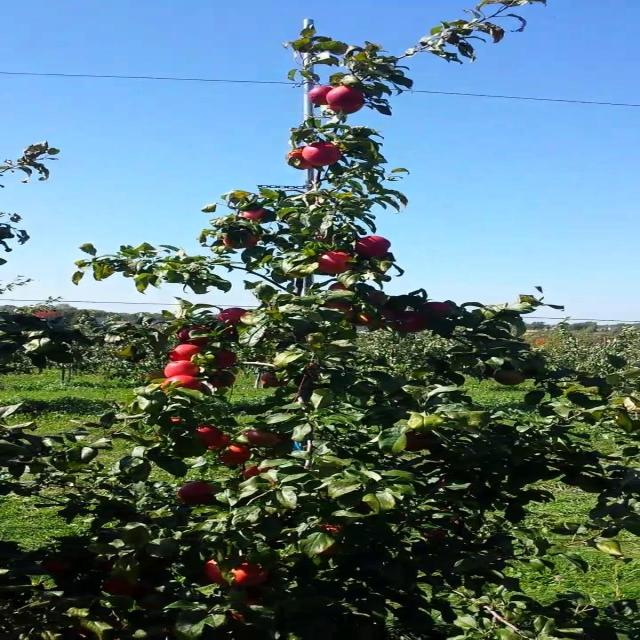apple: (305, 144, 343, 168), (177, 484, 220, 505), (319, 252, 356, 276), (234, 564, 270, 588), (355, 236, 391, 259), (170, 328, 213, 346), (326, 88, 368, 106), (284, 148, 315, 172), (397, 312, 428, 334), (220, 448, 256, 466), (177, 328, 213, 346), (163, 376, 204, 391), (404, 432, 434, 452), (205, 560, 228, 585), (241, 208, 276, 224), (248, 432, 283, 448), (220, 308, 249, 327), (497, 368, 526, 387), (170, 344, 204, 360), (106, 580, 137, 597), (170, 360, 201, 376), (205, 436, 235, 452), (212, 352, 240, 369), (326, 300, 356, 315), (262, 372, 288, 388), (198, 428, 222, 445), (42, 560, 69, 575), (333, 104, 366, 116), (212, 372, 236, 388), (426, 304, 455, 317), (312, 88, 332, 106), (383, 304, 404, 321), (362, 312, 384, 328), (241, 468, 270, 480), (369, 292, 389, 306), (319, 544, 340, 557), (383, 308, 402, 322), (319, 524, 343, 535), (426, 528, 448, 539), (333, 284, 354, 295), (220, 328, 240, 338), (234, 612, 247, 623), (248, 600, 265, 608), (170, 420, 183, 425)
